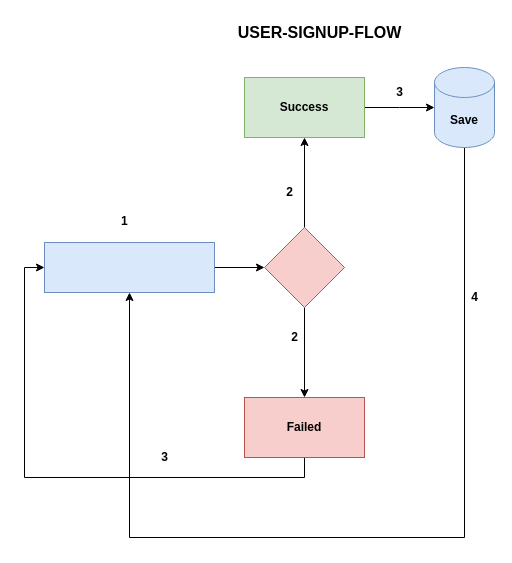
The diagram is 512 pixels wide and 563 high, and some of its shapes have lost their labels. Here are the shapes that lost their labels. From the top down, the box of each, then its label:
(44, 242, 214, 292): User/Signup
(264, 226, 344, 308): validate
